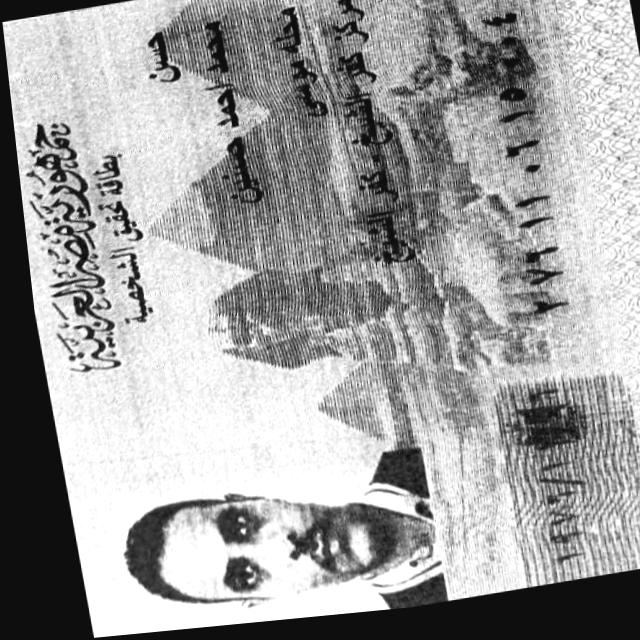front: (3, 0, 640, 638)
